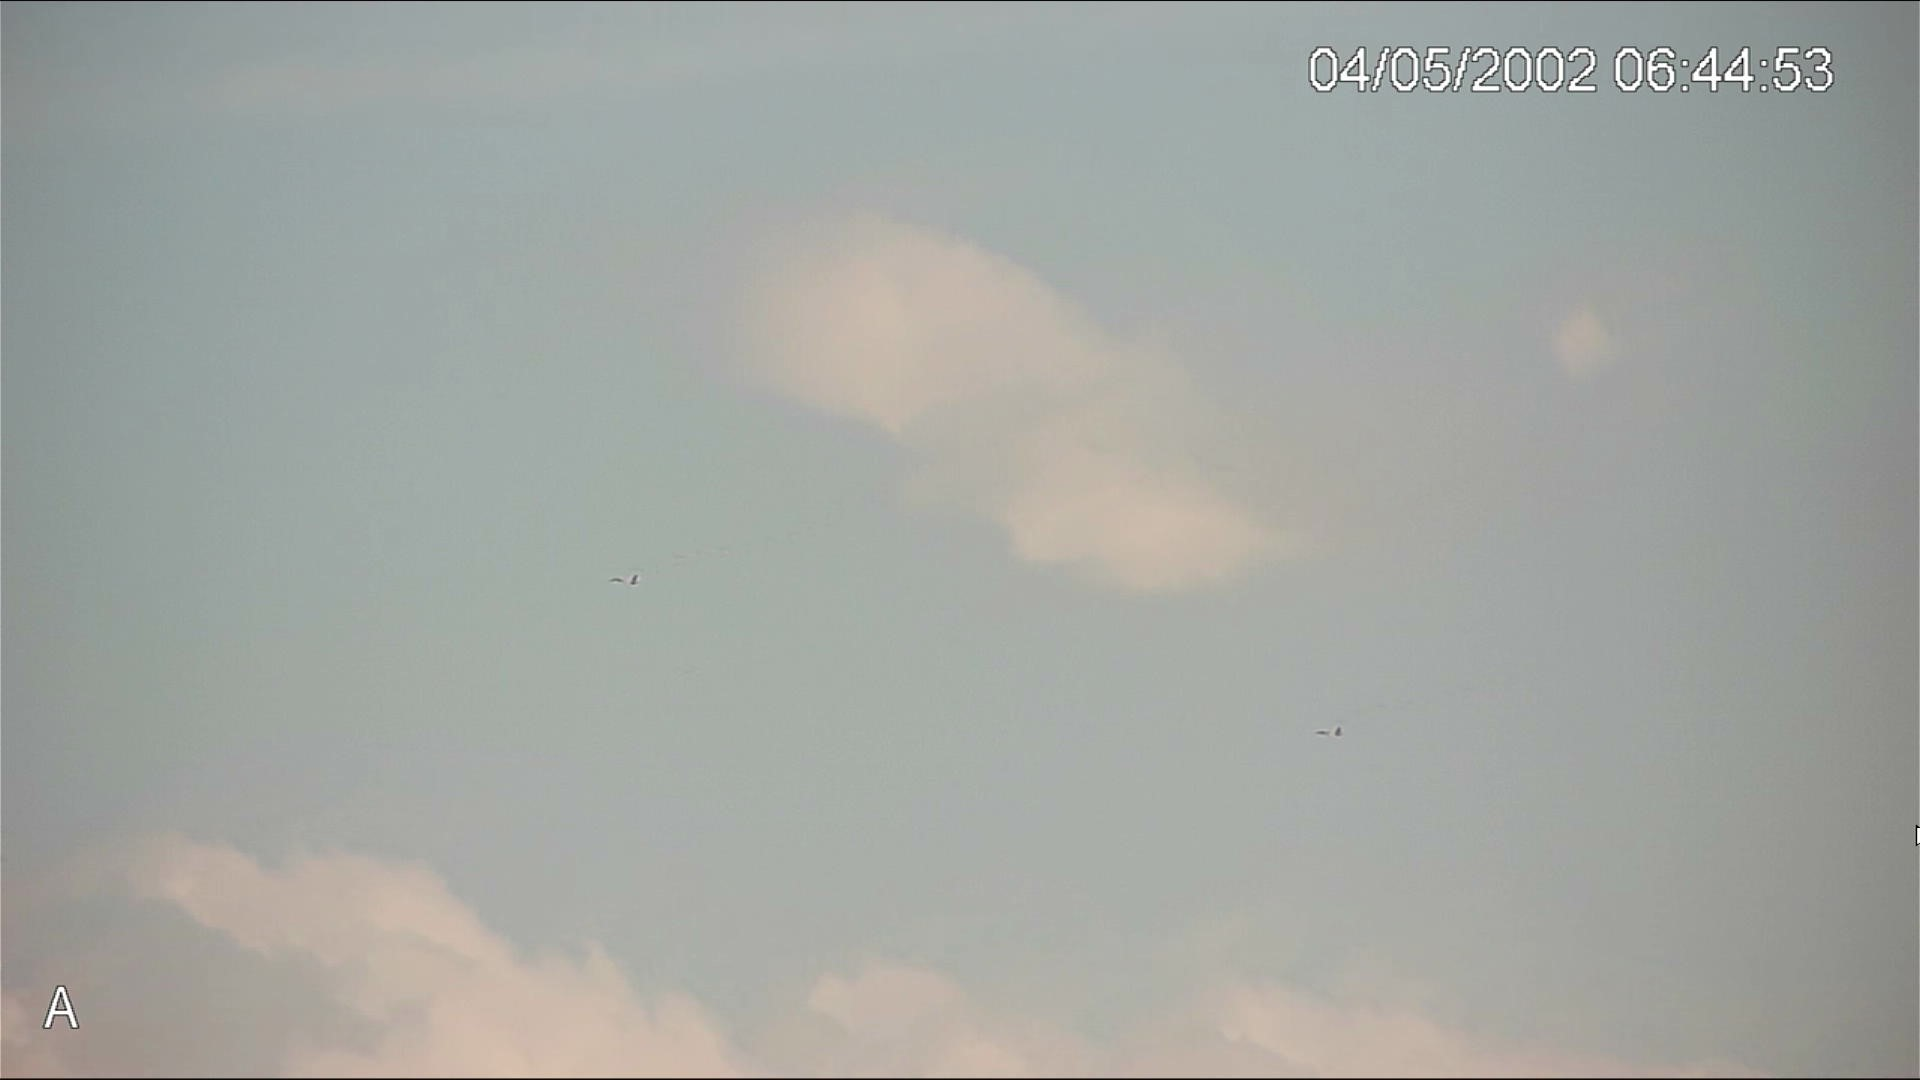SU_30: (611, 572, 640, 585), (1313, 724, 1342, 737)
